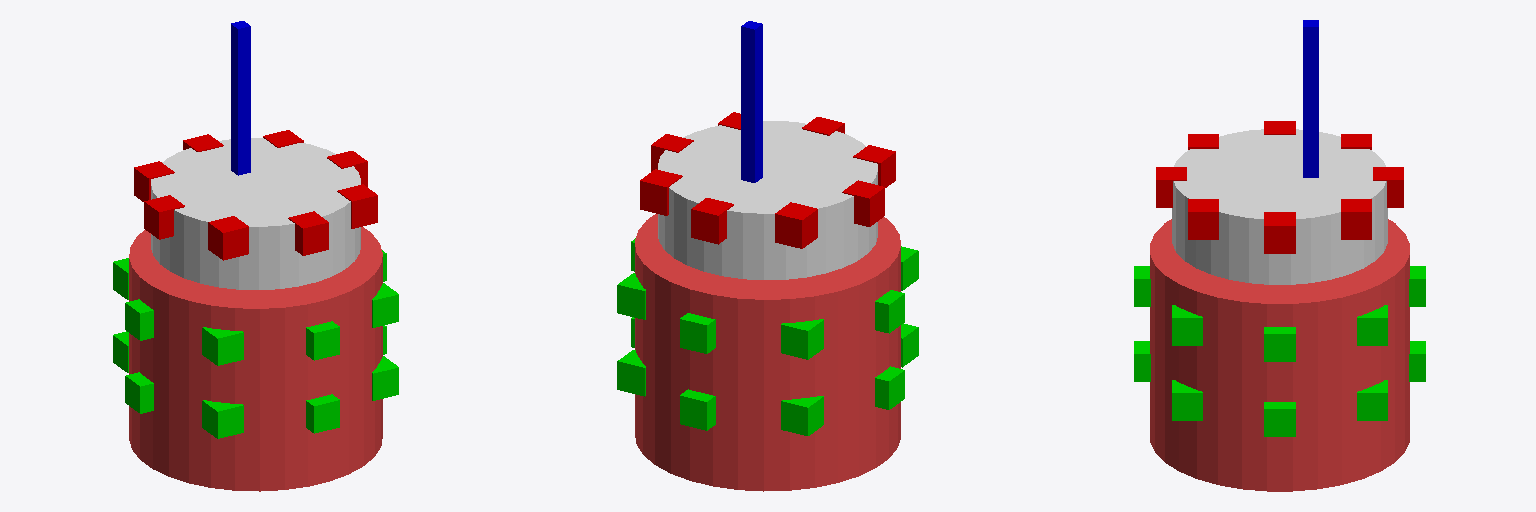
URDF robot description (random_bottle):
<?xml version="1.0"?>
<robot name="random_bottle">

  <!-- Define the cap link -->
  <link name="link1">
    <visual>
      <geometry>
        <mesh filename="cap.obj" scale="1.0 1.0 1.0"/>
      </geometry>
       <material name="white">
        <color rgba=".9 .9 .9 1"/>
      </material>

    </visual>
    <collision>
      <geometry>
        <mesh filename="cap.obj" scale="1.0 1.0 1.0"/>
      </geometry>
    </collision>

    <inertial>
      <mass value="0.010846502140359081"/> <!-- You can adjust the mass as needed -->
      <origin rpy="0 0 0" xyz="0 0 0"/>
      <inertia ixx="3.770112405889098e-06" ixy="0.0" ixz="0.0" iyy="3.770112405889098e-06" iyz="0.0" izz="6.573767302838467e-06"/>
    </inertial>
  </link>

    <link name="l10">
    <visual>
      <geometry>
        <box size="0.01 0.01 0.01"/>
      </geometry>

      <material name="red">
        <color rgba="0.9 0.0 0.0 1"/>
      </material>

    </visual>

    <inertial>
      <mass value="0.0001"/> <!-- You can adjust the mass as needed -->
      <origin rpy="0 0 0" xyz="0 0 -0.00"/> <!-- Offset by half of link1's height + 0.03m for the margin -->
      <inertia ixx="0.000000003" ixy="0.0" ixz="0.0" iyy="0.0000003" iyz="0.0" izz="0.00000003"/>
    </inertial>

  </link>
  <link name="l11">
    <visual>
      <geometry>
        <box size="0.01 0.01 0.01"/>
      </geometry>

      <material name="red">
        <color rgba="0.9 0.0 0.0 1"/>
      </material>

    </visual>

    <inertial>
      <mass value="0.0001"/> <!-- You can adjust the mass as needed -->
      <origin rpy="0 0 0" xyz="0 0 -0.00"/> <!-- Offset by half of link1's height + 0.03m for the margin -->
      <inertia ixx="0.000000003" ixy="0.0" ixz="0.0" iyy="0.0000003" iyz="0.0" izz="0.00000003"/>
    </inertial>

  </link>
  <link name="l12">
    <visual>
      <geometry>
        <box size="0.01 0.01 0.01"/>
      </geometry>

      <material name="red">
        <color rgba="0.9 0.0 0.0 1"/>
      </material>

    </visual>

    <inertial>
      <mass value="0.0001"/> <!-- You can adjust the mass as needed -->
      <origin rpy="0 0 0" xyz="0 0 -0.00"/> <!-- Offset by half of link1's height + 0.03m for the margin -->
      <inertia ixx="0.000000003" ixy="0.0" ixz="0.0" iyy="0.0000003" iyz="0.0" izz="0.00000003"/>
    </inertial>

  </link>
  <link name="l13">
    <visual>
      <geometry>
        <box size="0.01 0.01 0.01"/>
      </geometry>

      <material name="red">
        <color rgba="0.9 0.0 0.0 1"/>
      </material>

    </visual>

    <inertial>
      <mass value="0.0001"/> <!-- You can adjust the mass as needed -->
      <origin rpy="0 0 0" xyz="0 0 -0.00"/> <!-- Offset by half of link1's height + 0.03m for the margin -->
      <inertia ixx="0.000000003" ixy="0.0" ixz="0.0" iyy="0.0000003" iyz="0.0" izz="0.00000003"/>
    </inertial>

  </link>
  <link name="l10b">
    <visual>
      <geometry>
        <box size="0.01 0.01 0.01"/>
      </geometry>

      <material name="red">
        <color rgba="0.9 0.0 0.0 1"/>
      </material>

    </visual>

    <inertial>
      <mass value="0.0001"/> <!-- You can adjust the mass as needed -->
      <origin rpy="0 0 0" xyz="0 0 -0.00"/> <!-- Offset by half of link1's height + 0.03m for the margin -->
      <inertia ixx="0.000000003" ixy="0.0" ixz="0.0" iyy="0.0000003" iyz="0.0" izz="0.00000003"/>
    </inertial>

  </link>
  <link name="l11b">
    <visual>
      <geometry>
        <box size="0.01 0.01 0.01"/>
      </geometry>

      <material name="red">
        <color rgba="0.9 0.0 0.0 1"/>
      </material>

    </visual>

    <inertial>
      <mass value="0.0001"/> <!-- You can adjust the mass as needed -->
      <origin rpy="0 0 0" xyz="0 0 -0.00"/> <!-- Offset by half of link1's height + 0.03m for the margin -->
      <inertia ixx="0.000000003" ixy="0.0" ixz="0.0" iyy="0.0000003" iyz="0.0" izz="0.00000003"/>
    </inertial>

  </link>
  <link name="l12b">
    <visual>
      <geometry>
        <box size="0.01 0.01 0.01"/>
      </geometry>

      <material name="red">
        <color rgba="0.9 0.0 0.0 1"/>
      </material>

    </visual>

    <inertial>
      <mass value="0.0001"/> <!-- You can adjust the mass as needed -->
      <origin rpy="0 0 0" xyz="0 0 -0.00"/> <!-- Offset by half of link1's height + 0.03m for the margin -->
      <inertia ixx="0.000000003" ixy="0.0" ixz="0.0" iyy="0.0000003" iyz="0.0" izz="0.00000003"/>
    </inertial>

  </link>
  <link name="l13b">
    <visual>
      <geometry>
        <box size="0.01 0.01 0.01"/>
      </geometry>

      <material name="red">
        <color rgba="0.9 0.0 0.0 1"/>
      </material>

    </visual>

    <inertial>
      <mass value="0.0001"/> <!-- You can adjust the mass as needed -->
      <origin rpy="0 0 0" xyz="0 0 -0.00"/> <!-- Offset by half of link1's height + 0.03m for the margin -->
      <inertia ixx="0.000000003" ixy="0.0" ixz="0.0" iyy="0.0000003" iyz="0.0" izz="0.00000003"/>
    </inertial>

  </link>
  <link name="l20">
    <visual>
      <geometry>
        <box size="0.01 0.01 0.01"/>
      </geometry>

      <material name="red">
        <color rgba="0.0 0.9 0.0 1"/>
      </material>

    </visual>

    <inertial>
      <mass value="0.0001"/> <!-- You can adjust the mass as needed -->
      <origin rpy="0 0 0" xyz="0 0 -0.00"/> <!-- Offset by half of link1's height + 0.03m for the margin -->
      <inertia ixx="0.000000003" ixy="0.0" ixz="0.0" iyy="0.0000003" iyz="0.0" izz="0.00000003"/>
    </inertial>

  </link>
  <link name="l21">
    <visual>
      <geometry>
        <box size="0.01 0.01 0.01"/>
      </geometry>

      <material name="red">
        <color rgba="0.0 0.9 0.0 1"/>
      </material>

    </visual>

    <inertial>
      <mass value="0.0001"/> <!-- You can adjust the mass as needed -->
      <origin rpy="0 0 0" xyz="0 0 -0.00"/> <!-- Offset by half of link1's height + 0.03m for the margin -->
      <inertia ixx="0.000000003" ixy="0.0" ixz="0.0" iyy="0.0000003" iyz="0.0" izz="0.00000003"/>
    </inertial>

  </link>
  <link name="l22">
    <visual>
      <geometry>
        <box size="0.01 0.01 0.01"/>
      </geometry>

      <material name="red">
        <color rgba="0.0 0.9 0.0 1"/>
      </material>

    </visual>

    <inertial>
      <mass value="0.0001"/> <!-- You can adjust the mass as needed -->
      <origin rpy="0 0 0" xyz="0 0 -0.00"/> <!-- Offset by half of link1's height + 0.03m for the margin -->
      <inertia ixx="0.000000003" ixy="0.0" ixz="0.0" iyy="0.0000003" iyz="0.0" izz="0.00000003"/>
    </inertial>

  </link>
  <link name="l23">
    <visual>
      <geometry>
        <box size="0.01 0.01 0.01"/>
      </geometry>

      <material name="red">
        <color rgba="0.0 0.9 0.0 1"/>
      </material>

    </visual>

    <inertial>
      <mass value="0.0001"/> <!-- You can adjust the mass as needed -->
      <origin rpy="0 0 0" xyz="0 0 -0.00"/> <!-- Offset by half of link1's height + 0.03m for the margin -->
      <inertia ixx="0.000000003" ixy="0.0" ixz="0.0" iyy="0.0000003" iyz="0.0" izz="0.00000003"/>
    </inertial>

  </link>
  <link name="l24">
    <visual>
      <geometry>
        <box size="0.01 0.01 0.01"/>
      </geometry>

      <material name="red">
        <color rgba="0.0 0.9 0.0 1"/>
      </material>

    </visual>

    <inertial>
      <mass value="0.0001"/> <!-- You can adjust the mass as needed -->
      <origin rpy="0 0 0" xyz="0 0 -0.00"/> <!-- Offset by half of link1's height + 0.03m for the margin -->
      <inertia ixx="0.000000003" ixy="0.0" ixz="0.0" iyy="0.0000003" iyz="0.0" izz="0.00000003"/>
    </inertial>

  </link>
  <link name="l25">
    <visual>
      <geometry>
        <box size="0.01 0.01 0.01"/>
      </geometry>

      <material name="red">
        <color rgba="0.0 0.9 0.0 1"/>
      </material>

    </visual>

    <inertial>
      <mass value="0.0001"/> <!-- You can adjust the mass as needed -->
      <origin rpy="0 0 0" xyz="0 0 -0.00"/> <!-- Offset by half of link1's height + 0.03m for the margin -->
      <inertia ixx="0.000000003" ixy="0.0" ixz="0.0" iyy="0.0000003" iyz="0.0" izz="0.00000003"/>
    </inertial>

  </link>
  <link name="l26">
    <visual>
      <geometry>
        <box size="0.01 0.01 0.01"/>
      </geometry>

      <material name="red">
        <color rgba="0.0 0.9 0.0 1"/>
      </material>

    </visual>

    <inertial>
      <mass value="0.0001"/> <!-- You can adjust the mass as needed -->
      <origin rpy="0 0 0" xyz="0 0 -0.00"/> <!-- Offset by half of link1's height + 0.03m for the margin -->
      <inertia ixx="0.000000003" ixy="0.0" ixz="0.0" iyy="0.0000003" iyz="0.0" izz="0.00000003"/>
    </inertial>

  </link>
  <link name="l27">
    <visual>
      <geometry>
        <box size="0.01 0.01 0.01"/>
      </geometry>

      <material name="red">
        <color rgba="0.0 0.9 0.0 1"/>
      </material>

    </visual>

    <inertial>
      <mass value="0.0001"/> <!-- You can adjust the mass as needed -->
      <origin rpy="0 0 0" xyz="0 0 -0.00"/> <!-- Offset by half of link1's height + 0.03m for the margin -->
      <inertia ixx="0.000000003" ixy="0.0" ixz="0.0" iyy="0.0000003" iyz="0.0" izz="0.00000003"/>
    </inertial>

  </link>
  <link name="l30">
    <visual>
      <geometry>
        <box size="0.01 0.01 0.01"/>
      </geometry>

      <material name="red">
        <color rgba="0.0 0.9 0.0 1"/>
      </material>

    </visual>

    <inertial>
      <mass value="0.0001"/> <!-- You can adjust the mass as needed -->
      <origin rpy="0 0 0" xyz="0 0 -0.00"/> <!-- Offset by half of link1's height + 0.03m for the margin -->
      <inertia ixx="0.000000003" ixy="0.0" ixz="0.0" iyy="0.0000003" iyz="0.0" izz="0.00000003"/>
    </inertial>

  </link>
  <link name="l31">
    <visual>
      <geometry>
        <box size="0.01 0.01 0.01"/>
      </geometry>

      <material name="red">
        <color rgba="0.0 0.9 0.0 1"/>
      </material>

    </visual>

    <inertial>
      <mass value="0.0001"/> <!-- You can adjust the mass as needed -->
      <origin rpy="0 0 0" xyz="0 0 -0.00"/> <!-- Offset by half of link1's height + 0.03m for the margin -->
      <inertia ixx="0.000000003" ixy="0.0" ixz="0.0" iyy="0.0000003" iyz="0.0" izz="0.00000003"/>
    </inertial>

  </link>
  <link name="l32">
    <visual>
      <geometry>
        <box size="0.01 0.01 0.01"/>
      </geometry>

      <material name="red">
        <color rgba="0.0 0.9 0.0 1"/>
      </material>

    </visual>

    <inertial>
      <mass value="0.0001"/> <!-- You can adjust the mass as needed -->
      <origin rpy="0 0 0" xyz="0 0 -0.00"/> <!-- Offset by half of link1's height + 0.03m for the margin -->
      <inertia ixx="0.000000003" ixy="0.0" ixz="0.0" iyy="0.0000003" iyz="0.0" izz="0.00000003"/>
    </inertial>

  </link>
  <link name="l33">
    <visual>
      <geometry>
        <box size="0.01 0.01 0.01"/>
      </geometry>

      <material name="red">
        <color rgba="0.0 0.9 0.0 1"/>
      </material>

    </visual>

    <inertial>
      <mass value="0.0001"/> <!-- You can adjust the mass as needed -->
      <origin rpy="0 0 0" xyz="0 0 -0.00"/> <!-- Offset by half of link1's height + 0.03m for the margin -->
      <inertia ixx="0.000000003" ixy="0.0" ixz="0.0" iyy="0.0000003" iyz="0.0" izz="0.00000003"/>
    </inertial>

  </link>
  <link name="l34">
    <visual>
      <geometry>
        <box size="0.01 0.01 0.01"/>
      </geometry>

      <material name="red">
        <color rgba="0.0 0.9 0.0 1"/>
      </material>

    </visual>

    <inertial>
      <mass value="0.0001"/> <!-- You can adjust the mass as needed -->
      <origin rpy="0 0 0" xyz="0 0 -0.00"/> <!-- Offset by half of link1's height + 0.03m for the margin -->
      <inertia ixx="0.000000003" ixy="0.0" ixz="0.0" iyy="0.0000003" iyz="0.0" izz="0.00000003"/>
    </inertial>

  </link>
  <link name="l35">
    <visual>
      <geometry>
        <box size="0.01 0.01 0.01"/>
      </geometry>

      <material name="red">
        <color rgba="0.0 0.9 0.0 1"/>
      </material>

    </visual>

    <inertial>
      <mass value="0.0001"/> <!-- You can adjust the mass as needed -->
      <origin rpy="0 0 0" xyz="0 0 -0.00"/> <!-- Offset by half of link1's height + 0.03m for the margin -->
      <inertia ixx="0.000000003" ixy="0.0" ixz="0.0" iyy="0.0000003" iyz="0.0" izz="0.00000003"/>
    </inertial>

  </link>
  <link name="l36">
    <visual>
      <geometry>
        <box size="0.01 0.01 0.01"/>
      </geometry>

      <material name="red">
        <color rgba="0.0 0.9 0.0 1"/>
      </material>

    </visual>

    <inertial>
      <mass value="0.0001"/> <!-- You can adjust the mass as needed -->
      <origin rpy="0 0 0" xyz="0 0 -0.00"/> <!-- Offset by half of link1's height + 0.03m for the margin -->
      <inertia ixx="0.000000003" ixy="0.0" ixz="0.0" iyy="0.0000003" iyz="0.0" izz="0.00000003"/>
    </inertial>

  </link>
  <link name="l37">
    <visual>
      <geometry>
        <box size="0.01 0.01 0.01"/>
      </geometry>

      <material name="red">
        <color rgba="0.0 0.9 0.0 1"/>
      </material>

    </visual>

    <inertial>
      <mass value="0.0001"/> <!-- You can adjust the mass as needed -->
      <origin rpy="0 0 0" xyz="0 0 -0.00"/> <!-- Offset by half of link1's height + 0.03m for the margin -->
      <inertia ixx="0.000000003" ixy="0.0" ixz="0.0" iyy="0.0000003" iyz="0.0" izz="0.00000003"/>
    </inertial>

  </link>


  <link name="hint">
    <visual>
      <geometry>
        <box size="0.005 0.005 0.07"/> <!-- 9cm x 9cm x 6cm -->
      </geometry>
       <material name="blue">
        <color rgba=".0 .0 .9 1"/>
      </material>
    </visual>

    <inertial>
      <mass value="0.0001"/> <!-- You can adjust the mass as needed -->
      <origin rpy="0 0 0" xyz="0 0 -0.00"/> <!-- Offset by half of link1's height + 0.03m for the margin -->
      <inertia ixx="0.000000003" ixy="0.0" ixz="0.0" iyy="0.0000003" iyz="0.0" izz="0.00000003"/>
    </inertial>


  </link>

  <!-- Define the base link -->
  <link name="link2">
    <visual>
      <geometry>
        <mesh filename="base.obj" scale="1.0 1.0 1.0"/>
      </geometry>
      <material name="red">
        <color rgba=".9 .3 .3 1"/>
      </material>

    </visual>

    <collision>
      <geometry>
        <mesh filename="base.obj" scale="1.0 1.0 1.0"/>
      </geometry>
    </collision>

    <inertial>
      <mass value="0.04924059627663313"/> <!-- You can adjust the mass as needed -->
      <origin rpy="0 0 0" xyz="0 0 -0.00"/> <!-- Offset by half of link1's height + 0.03m for the margin -->
      <inertia ixx="3.9896466853457394e-05" ixy="0.0" ixz="0.0" iyy="3.9896466853457394e-05" iyz="0.0" izz="4.343312381594796e-05"/>
    </inertial>
  </link>



  <link name="brake">
   <visual>
      <geometry>
        <box size="0.02 0.02 0.005"/> <!-- 6cm x 6cm x 2cm -->
      </geometry>
       <material name="gray">
        <color rgba=".5 .5 .5 1"/>
      </material>

    </visual>
    <collision>
      <geometry>
        <box size="0.02 0.02 0.005"/> <!-- 6cm x 6cm x 2cm -->
      </geometry>
    </collision>

    <inertial>
      <mass value="0.005"/> <!-- You can adjust the mass as needed -->
      <origin rpy="0 0 0" xyz="0 0 0"/>
      <inertia ixx="0.00018" ixy="0.0" ixz="0.0" iyy="0.00018" iyz="0.0" izz="0.00018"/>
    </inertial>
  </link>

  <!-- Define the joint connecting link1 and link2 as a revolute joint along z-axis -->
  <joint name="fix_joint" type="fixed">
    <parent link="link1"/>
    <child link="hint"/>
    <origin rpy="0 0 0" xyz="0 0.01 0.03"/> <!-- Offset by half of link1's height for the margin -->
    <axis xyz="0 0 1"/>
  </joint>

  <!-- Define the joint connecting link1 and link2 as a revolute joint along z-axis -->
  <joint name="brake_joint" type="prismatic">
    <parent link="link2"/>
    <child link="brake"/>
    <origin rpy="0 0 0" xyz="0 0 0.056402705726828394"/> <!-- Offset by half of link1's height for the margin -->
    <axis xyz="0 0 1"/>
    <limit lower="-0.02" upper="0.02" />
    <!-- <dynamics damping="0.0" friction="0.0"/> -->
  </joint>


  <joint name="b_joint" type="revolute">
    <parent link="link2"/>
    <child link="link1"/>
    <origin rpy="0 0 0" xyz="0 0 0.04828087835594015"/> <!-- Offset by half of link1's height for the margin -->
    <axis xyz="0 0 1"/>
    <!-- No joint limits -->
    <dynamics damping="0.0" friction="0.0"/>
  </joint>


  <!-- marker -->
    <joint name="jl10" type="fixed">
    <parent link="link1"/>
    <child link="l10"/>
    <origin rpy="0 0 0" xyz="0.0 0.03481587449674819 0.006936548211266472"/> <!-- Offset by half of link1's height for the margin -->
    <axis xyz="0 0 1"/>
  </joint>
  <joint name="jl11" type="fixed">
    <parent link="link1"/>
    <child link="l11"/>
    <origin rpy="0 0 0" xyz="0.024618540619764793 0.024618541279416047 0.006936548211266472"/> <!-- Offset by half of link1's height for the margin -->
    <axis xyz="0 0 1"/>
  </joint>
  <joint name="jl12" type="fixed">
    <parent link="link1"/>
    <child link="l12"/>
    <origin rpy="0 0 0" xyz="0.034815874496748174 9.328877566577036e-10 0.006936548211266472"/> <!-- Offset by half of link1's height for the margin -->
    <axis xyz="0 0 1"/>
  </joint>
  <joint name="jl13" type="fixed">
    <parent link="link1"/>
    <child link="l13"/>
    <origin rpy="0 0 0" xyz="0.024618541939067283 -0.024618539960113518 0.006936548211266472"/> <!-- Offset by half of link1's height for the margin -->
    <axis xyz="0 0 1"/>
  </joint>
  <joint name="jl10b" type="fixed">
    <parent link="link1"/>
    <child link="l10b"/>
    <origin rpy="0 0 0" xyz="1.8657755133154063e-09 -0.03481587449674814 0.006936548211266472"/> <!-- Offset by half of link1's height for the margin -->
    <axis xyz="0 0 1"/>
  </joint>
  <joint name="jl11b" type="fixed">
    <parent link="link1"/>
    <child link="l11b"/>
    <origin rpy="0 0 0" xyz="-0.024618539300462216 -0.02461854259871852 0.006936548211266472"/> <!-- Offset by half of link1's height for the margin -->
    <axis xyz="0 0 1"/>
  </joint>
  <joint name="jl12b" type="fixed">
    <parent link="link1"/>
    <child link="l12b"/>
    <origin rpy="0 0 0" xyz="-0.03481587449674808 -2.798663254511754e-09 0.006936548211266472"/> <!-- Offset by half of link1's height for the margin -->
    <axis xyz="0 0 1"/>
  </joint>
  <joint name="jl13b" type="fixed">
    <parent link="link1"/>
    <child link="l13b"/>
    <origin rpy="0 0 0" xyz="-0.02461854325836971 0.024618538640810914 0.006936548211266472"/> <!-- Offset by half of link1's height for the margin -->
    <axis xyz="0 0 1"/>
  </joint>
  <joint name="jl20" type="fixed">
    <parent link="link2"/>
    <child link="l20"/>
    <origin rpy="0 0 0" xyz="0.0 0.042001410881404556 0.01996852701356409"/> <!-- Offset by half of link1's height for the margin -->
    <axis xyz="0 0 1"/>
  </joint>
  <joint name="jl21" type="fixed">
    <parent link="link2"/>
    <child link="l21"/>
    <origin rpy="0 0 0" xyz="0.029699482055746327 0.029699482851540882 0.01996852701356409"/> <!-- Offset by half of link1's height for the margin -->
    <axis xyz="0 0 1"/>
  </joint>
  <joint name="jl22" type="fixed">
    <parent link="link2"/>
    <child link="l22"/>
    <origin rpy="0 0 0" xyz="0.04200141088140454 1.1254234609925315e-09 0.01996852701356409"/> <!-- Offset by half of link1's height for the margin -->
    <axis xyz="0 0 1"/>
  </joint>
  <joint name="jl23" type="fixed">
    <parent link="link2"/>
    <child link="l23"/>
    <origin rpy="0 0 0" xyz="0.029699483647335417 -0.029699481259951747 0.01996852701356409"/> <!-- Offset by half of link1's height for the margin -->
    <axis xyz="0 0 1"/>
  </joint>
  <joint name="jl24" type="fixed">
    <parent link="link2"/>
    <child link="l24"/>
    <origin rpy="0 0 0" xyz="2.250846921985062e-09 -0.042001410881404494 0.01996852701356409"/> <!-- Offset by half of link1's height for the margin -->
    <axis xyz="0 0 1"/>
  </joint>
  <joint name="jl25" type="fixed">
    <parent link="link2"/>
    <child link="l25"/>
    <origin rpy="0 0 0" xyz="-0.029699480464157133 -0.02969948444312995 0.01996852701356409"/> <!-- Offset by half of link1's height for the margin -->
    <axis xyz="0 0 1"/>
  </joint>
  <joint name="jl26" type="fixed">
    <parent link="link2"/>
    <child link="l26"/>
    <origin rpy="0 0 0" xyz="-0.042001410881404425 -3.3762703643252177e-09 0.01996852701356409"/> <!-- Offset by half of link1's height for the margin -->
    <axis xyz="0 0 1"/>
  </joint>
  <joint name="jl27" type="fixed">
    <parent link="link2"/>
    <child link="l27"/>
    <origin rpy="0 0 0" xyz="-0.029699485238924433 0.029699479668362522 0.01996852701356409"/> <!-- Offset by half of link1's height for the margin -->
    <axis xyz="0 0 1"/>
  </joint>
  <joint name="jl30" type="fixed">
    <parent link="link2"/>
    <child link="l30"/>
    <origin rpy="0 0 0" xyz="0.0 0.042001410881404556 -0.006656175671188031"/> <!-- Offset by half of link1's height for the margin -->
    <axis xyz="0 0 1"/>
  </joint>
  <joint name="jl31" type="fixed">
    <parent link="link2"/>
    <child link="l31"/>
    <origin rpy="0 0 0" xyz="0.029699482055746327 0.029699482851540882 -0.006656175671188031"/> <!-- Offset by half of link1's height for the margin -->
    <axis xyz="0 0 1"/>
  </joint>
  <joint name="jl32" type="fixed">
    <parent link="link2"/>
    <child link="l32"/>
    <origin rpy="0 0 0" xyz="0.04200141088140454 1.1254234609925315e-09 -0.006656175671188031"/> <!-- Offset by half of link1's height for the margin -->
    <axis xyz="0 0 1"/>
  </joint>
  <joint name="jl33" type="fixed">
    <parent link="link2"/>
    <child link="l33"/>
    <origin rpy="0 0 0" xyz="0.029699483647335417 -0.029699481259951747 -0.006656175671188031"/> <!-- Offset by half of link1's height for the margin -->
    <axis xyz="0 0 1"/>
  </joint>
  <joint name="jl34" type="fixed">
    <parent link="link2"/>
    <child link="l34"/>
    <origin rpy="0 0 0" xyz="2.250846921985062e-09 -0.042001410881404494 -0.006656175671188031"/> <!-- Offset by half of link1's height for the margin -->
    <axis xyz="0 0 1"/>
  </joint>
  <joint name="jl35" type="fixed">
    <parent link="link2"/>
    <child link="l35"/>
    <origin rpy="0 0 0" xyz="-0.029699480464157133 -0.02969948444312995 -0.006656175671188031"/> <!-- Offset by half of link1's height for the margin -->
    <axis xyz="0 0 1"/>
  </joint>
  <joint name="jl36" type="fixed">
    <parent link="link2"/>
    <child link="l36"/>
    <origin rpy="0 0 0" xyz="-0.042001410881404425 -3.3762703643252177e-09 -0.006656175671188031"/> <!-- Offset by half of link1's height for the margin -->
    <axis xyz="0 0 1"/>
  </joint>
  <joint name="jl37" type="fixed">
    <parent link="link2"/>
    <child link="l37"/>
    <origin rpy="0 0 0" xyz="-0.029699485238924433 0.029699479668362522 -0.006656175671188031"/> <!-- Offset by half of link1's height for the margin -->
    <axis xyz="0 0 1"/>
  </joint>



</robot>

--- Render facts (derived) ---
The picture shows the robot from 3 angles, left to right: view 1: azimuth 30°, elevation 25°; view 2: azimuth 150°, elevation 25°; view 3: azimuth 270°, elevation 25°; orthographic projection.
Model random_bottle with 28 links and 27 joints (1 revolute, 1 prismatic, 25 fixed), rooted at link2, posed every joint at zero.
Visible links, largest first — view 1: link2, link1, hint, l11b, l35, l25, l10b, l12b, l13, l24, l34, l26 (+7 smaller); view 2: link2, link1, hint, l13b, l27, l10, l37, l12b, l11, l30, l20, l26 (+7 smaller); view 3: link2, link1, hint, l12, l11, l13, l22, l32, l21, l23, l31, l33 (+6 smaller).
Boxes of the visible links, x1,y1,x2,y2 form: link2: [129, 227, 382, 491]; link1: [151, 138, 360, 289]; hint: [231, 21, 250, 175]; l11b: [208, 216, 248, 260]; l35: [202, 400, 243, 438]; l25: [202, 327, 243, 365]; l10b: [288, 211, 328, 255]; l12b: [144, 195, 184, 239]; l13: [337, 184, 377, 228]; l24: [306, 321, 339, 360]; l34: [306, 394, 339, 433]; l26: [125, 299, 153, 340]; link2: [635, 214, 900, 491]; link1: [658, 121, 877, 279]; hint: [741, 21, 762, 182]; l13b: [775, 202, 817, 248]; l27: [781, 319, 823, 359]; l10: [691, 198, 733, 244]; l37: [781, 396, 823, 435]; l12b: [842, 180, 884, 226]; l11: [640, 169, 682, 215]; l30: [680, 389, 715, 430]; l20: [680, 313, 715, 353]; l26: [875, 290, 904, 333]; link2: [1150, 219, 1409, 491]; link1: [1172, 129, 1387, 284]; hint: [1303, 20, 1318, 177]; l12: [1264, 212, 1295, 253]; l11: [1341, 199, 1371, 239]; l13: [1188, 199, 1218, 239]; l22: [1264, 327, 1295, 361]; l32: [1264, 402, 1295, 436]; l21: [1357, 305, 1387, 345]; l23: [1172, 305, 1202, 345]; l31: [1357, 380, 1387, 420]; l33: [1172, 380, 1202, 420].
Size in the robot's own frame: 0.094 by 0.094 by 0.1466 metres.
2 mesh visuals loaded from 2 distinct referenced files (2 OBJ).
